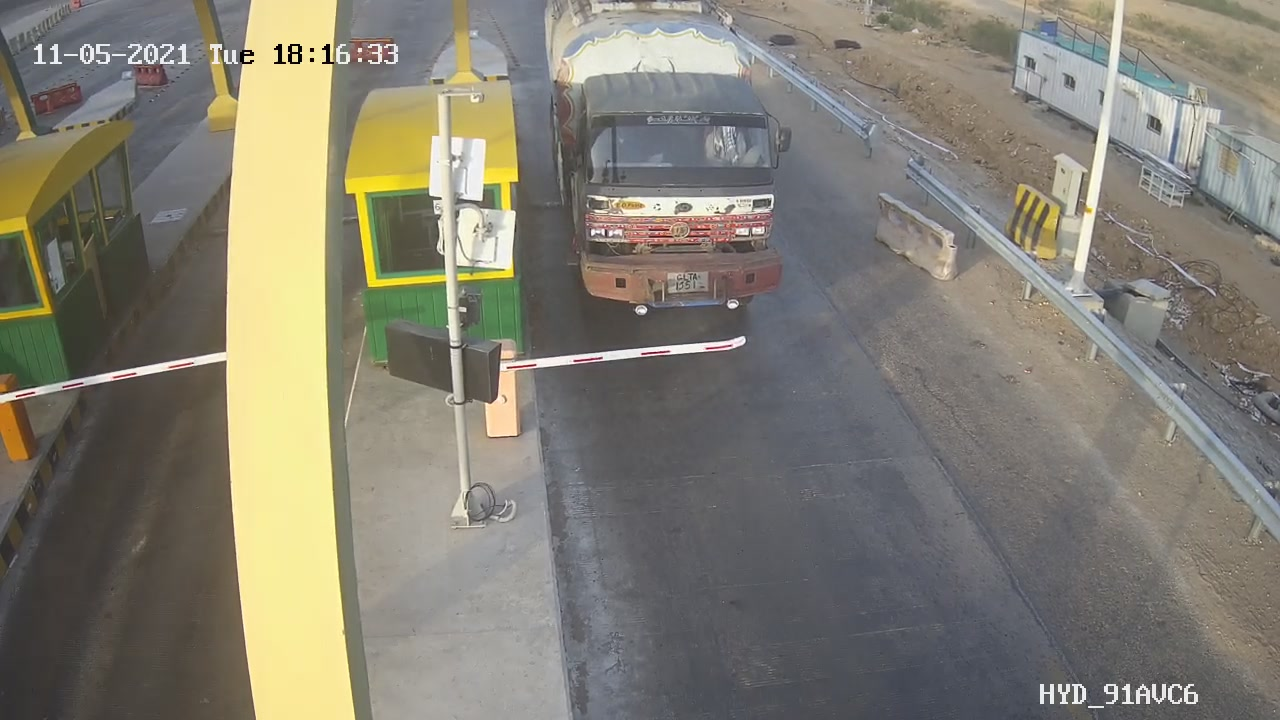F6: (534, 23, 825, 323)
